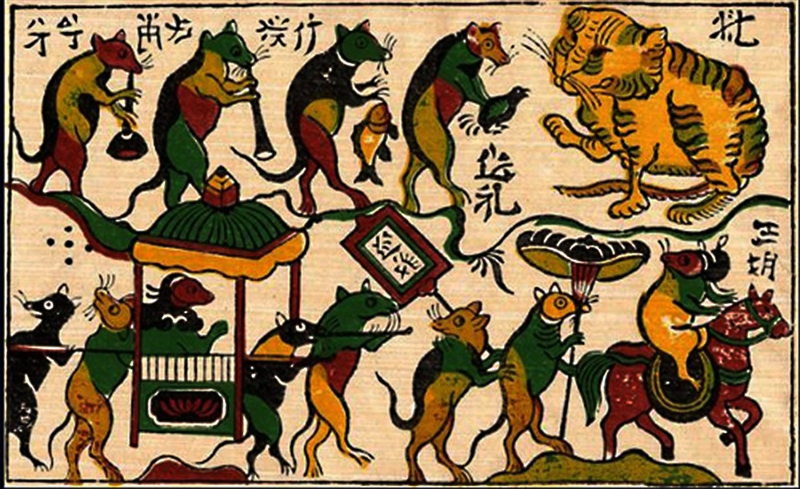chuot_chu_re: (577, 249, 790, 476)
chuot_co_dau: (130, 166, 307, 445)
chuot_khenh_kieu: (242, 280, 411, 477), (7, 286, 132, 482)
chuot_mang_le_vat: (256, 19, 530, 216)
chuot_nguoi_hau: (376, 283, 588, 482), (343, 208, 451, 304)
chuot_nhac_cong: (15, 20, 275, 218)
ho_uy_nghi: (542, 6, 768, 224)
